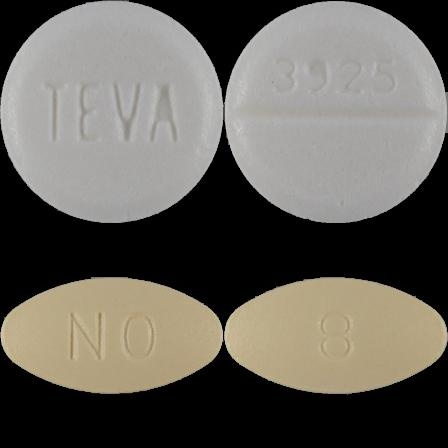55700-058: (0, 0, 224, 224)
